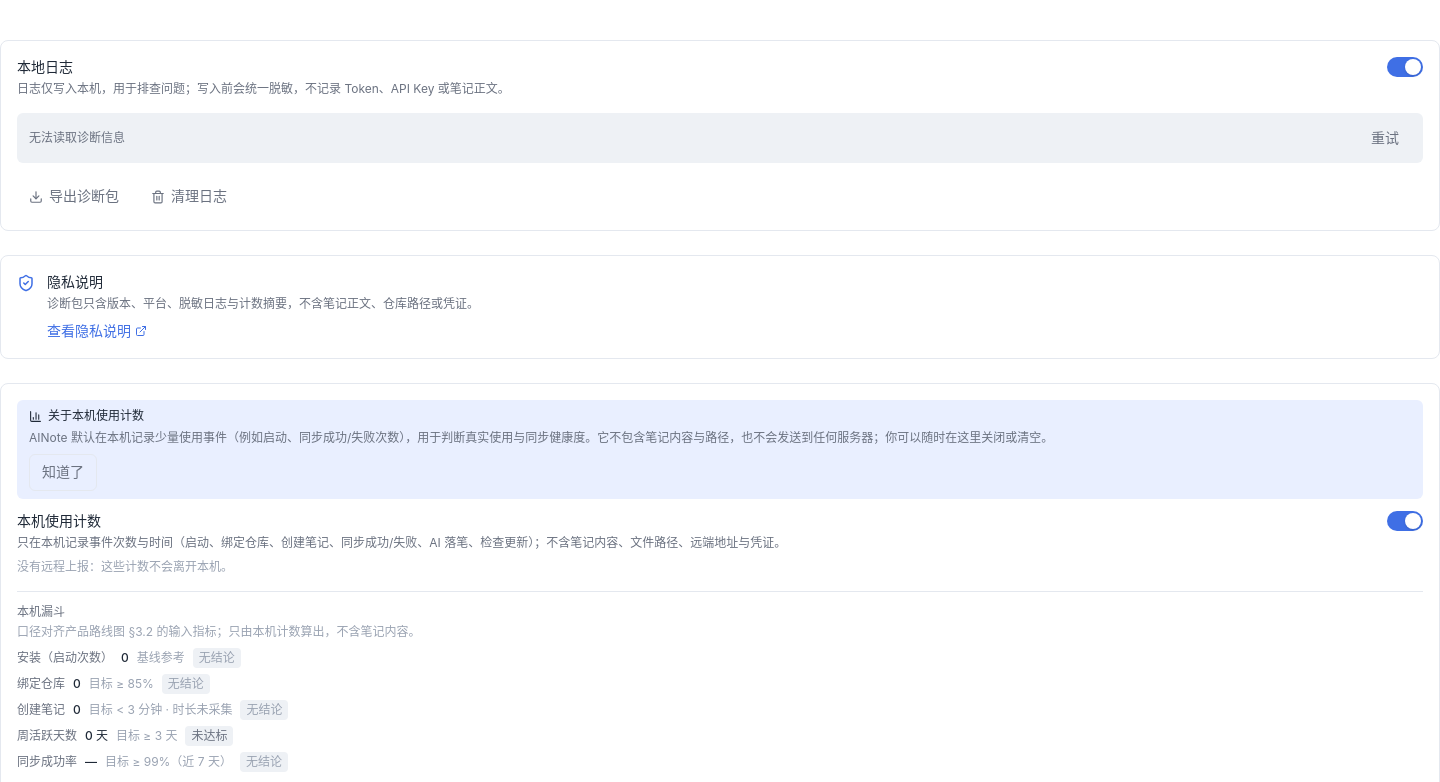
Test: SupportSettings 信息与开关 › 读取失败时提供重试
Expected: the text "无法读取诊断信息" is shown, [29, 130, 125, 146]
Click the button "重试": (1385, 138) [1359, 121, 1411, 155]
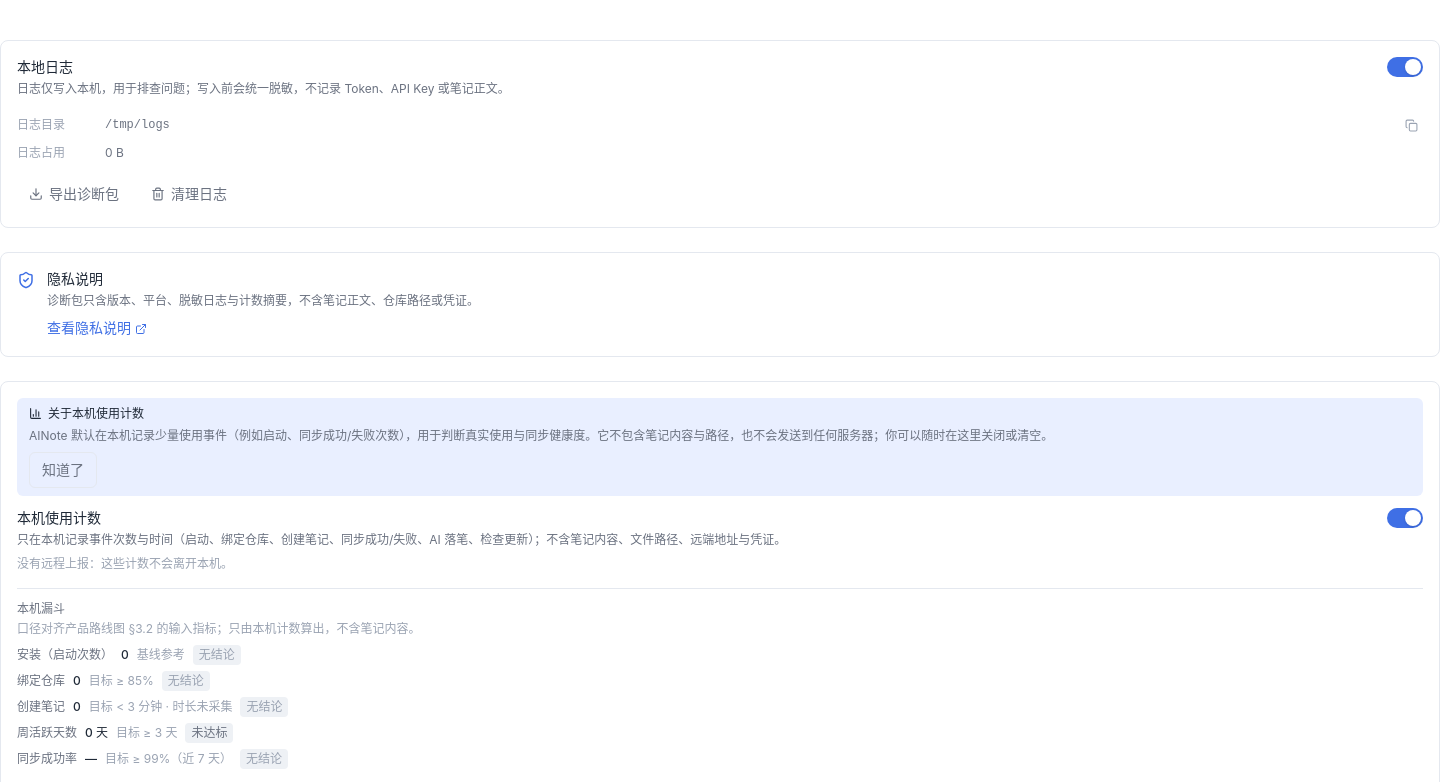
Result: the text "/tmp/logs" is shown at [105, 118, 170, 132]
